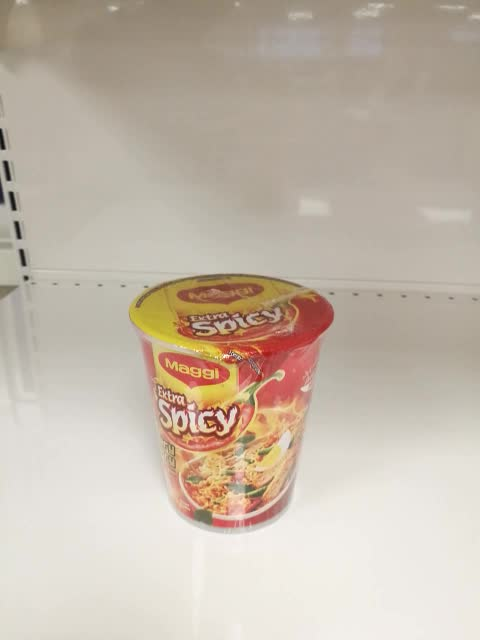maggi: (128, 272, 335, 534)
